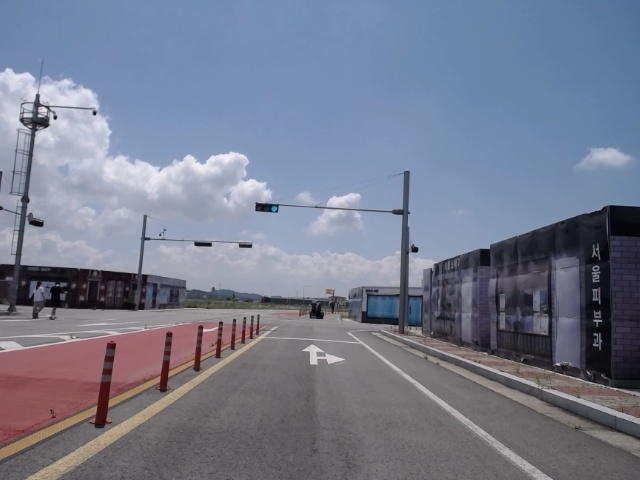green_3: (256, 204, 278, 213)
